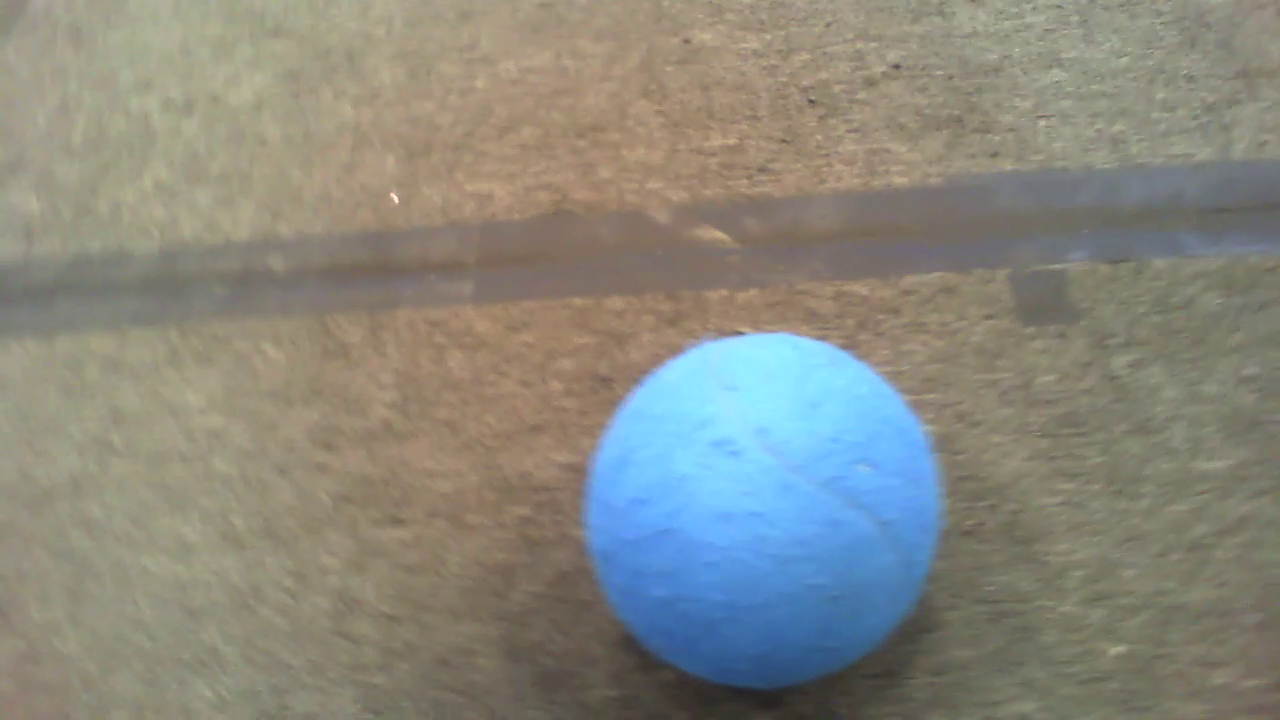blue_cargo: (565, 323, 954, 688)
